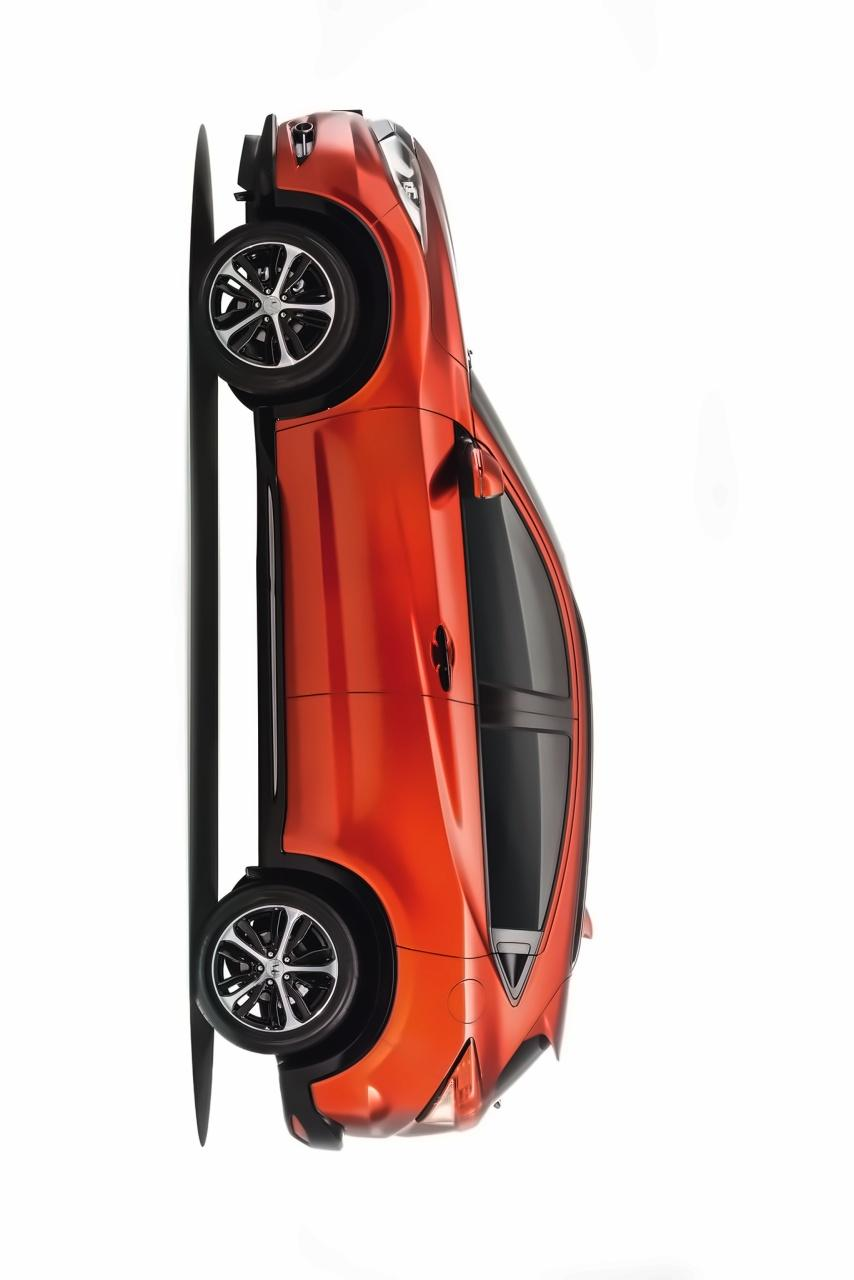Fender - -F-L-: (246, 196, 484, 446)
Fender - -R-L-: (286, 936, 561, 1128)
Front bumper: (234, 98, 401, 240)
Passenger-s door - -F-L-: (248, 406, 611, 750)
Passenger-s door - -R-L-: (244, 684, 611, 974)
Rear light - -L-: (383, 1038, 484, 1144)
Side bumper - -L-: (232, 410, 356, 871)
Side mirror - -L-: (442, 424, 513, 508)
